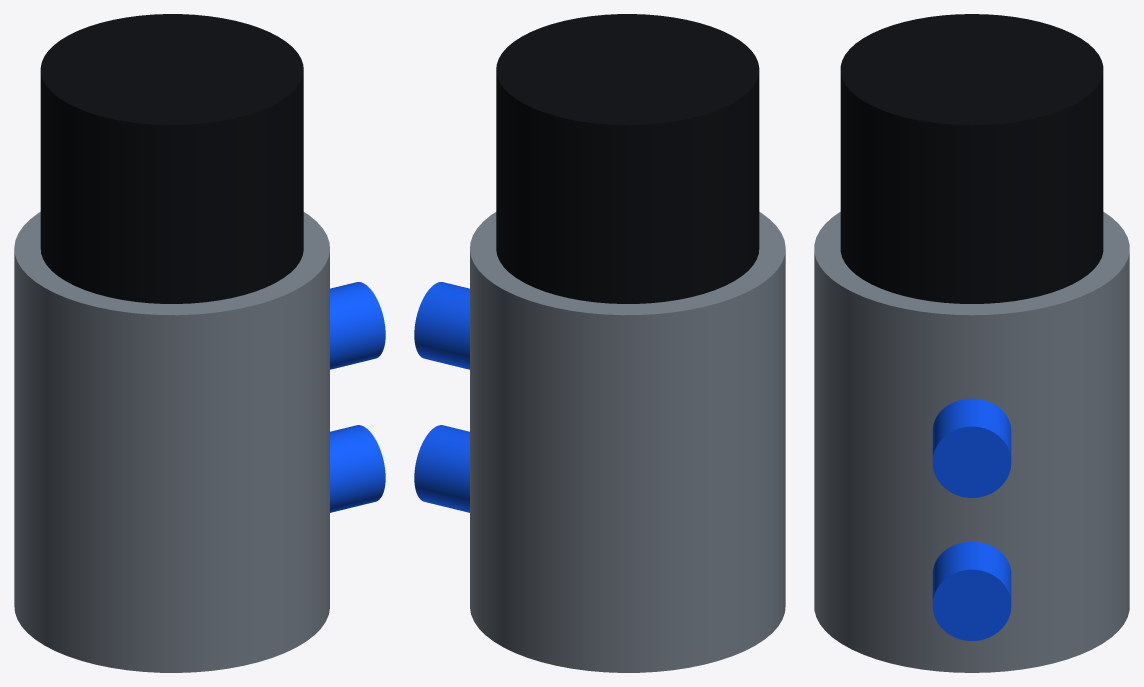
The model's file is rotary_union.glb.
3 views of the same model, side by side, from view 1: azimuth 30°, elevation 25°; view 2: azimuth 150°, elevation 25°; view 3: azimuth 270°, elevation 25° (orthographic).
Parts seen in each view (by area): view 1: rotary_union; view 2: rotary_union; view 3: rotary_union.
Part boxes in pixels (x1=…): rotary_union: x1=14, y1=14, x2=385, y2=672; rotary_union: x1=414, y1=14, x2=785, y2=672; rotary_union: x1=814, y1=14, x2=1129, y2=672.
Size of the model in its own units: 0.029 by 0.045 by 0.024.
